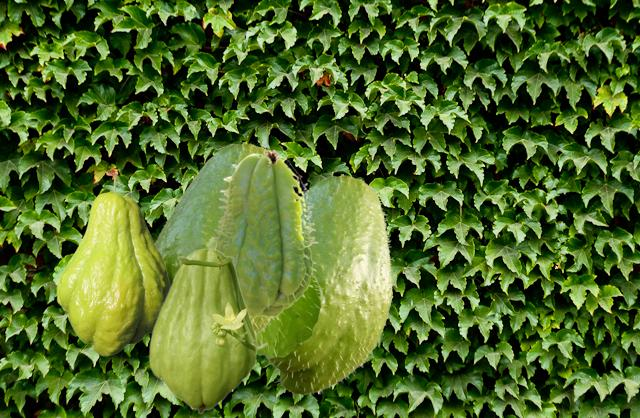sayote: (258, 174, 393, 397), (155, 142, 275, 337), (56, 174, 169, 355), (148, 248, 267, 413), (211, 149, 317, 321), (258, 275, 323, 357)
